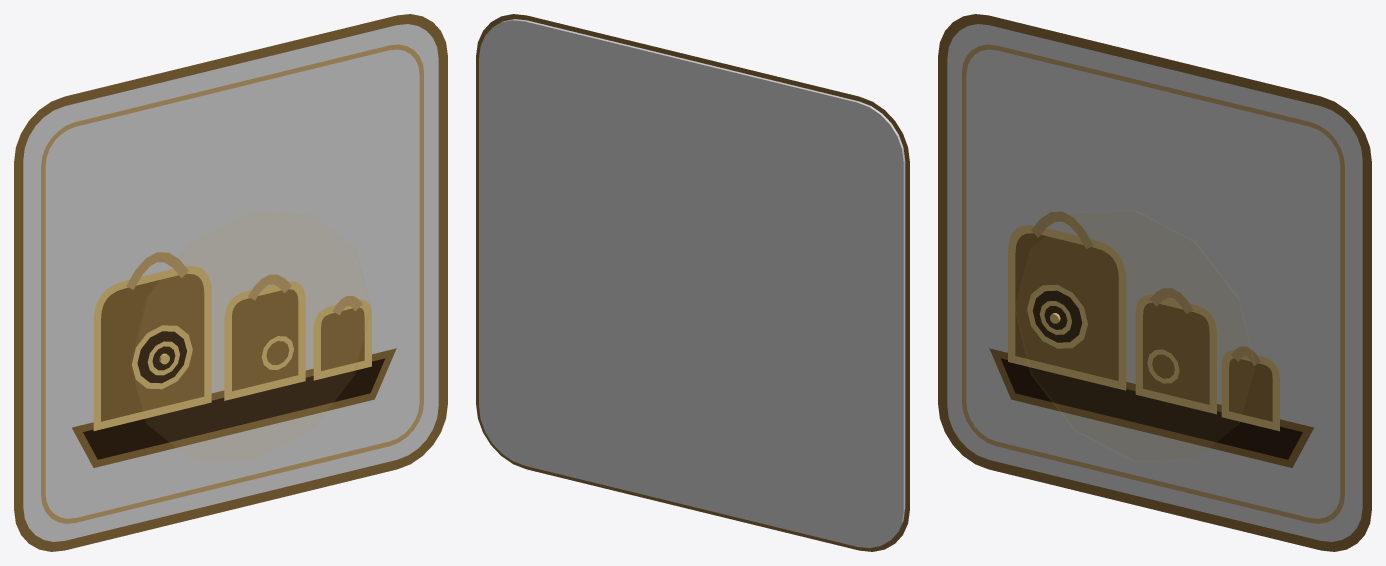
Rendered from obj-etalon-giri.glb.
3 views of the same model, side by side, from view 1: azimuth 30°, elevation 25°; view 2: azimuth 150°, elevation 25°; view 3: azimuth 330°, elevation 25° (orthographic).
Visible parts, largest first — view 1: obj-etalon-giri; view 2: obj-etalon-giri; view 3: obj-etalon-giri.
Part boxes in pixels (x1,y1,x2,y2): obj-etalon-giri: (14,14,447,551); obj-etalon-giri: (476,14,909,551); obj-etalon-giri: (938,14,1371,551).
Bounding box in the file's own units: 0.3917 × 0.3917 × 0.035.
